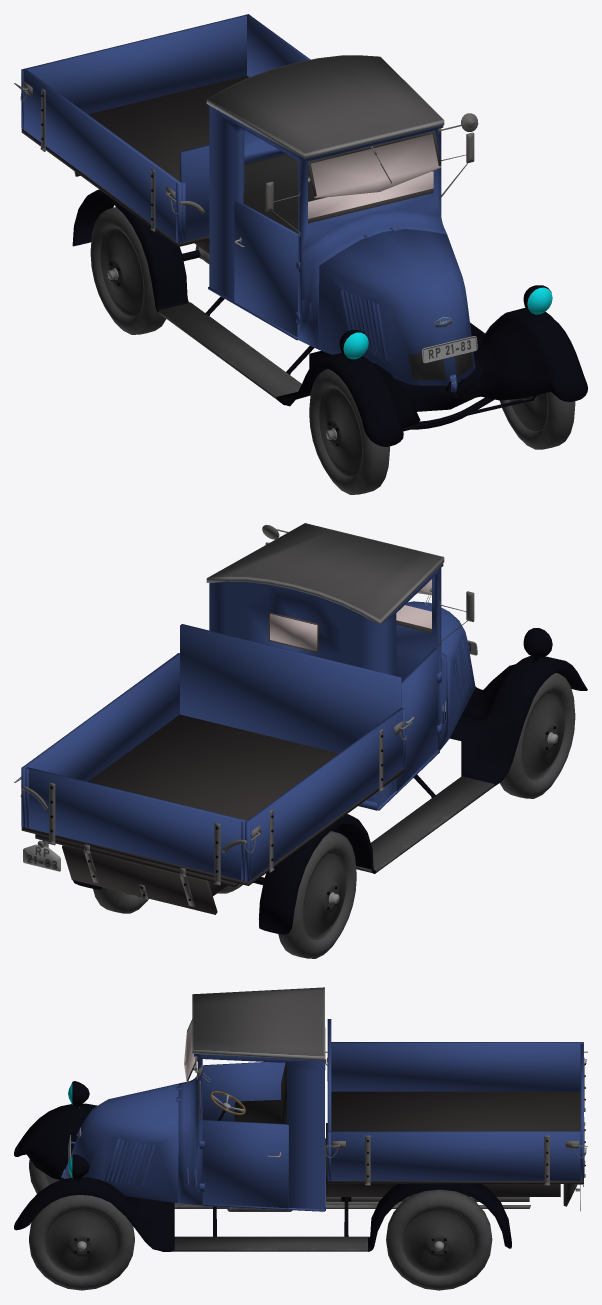
The model's file is phaenomen_4_rl_separated.fbx.
The picture shows the model from 3 angles, top to bottom: view 1: azimuth 30°, elevation 25°; view 2: azimuth 150°, elevation 25°; view 3: azimuth 270°, elevation 25°; orthographic projection. The views are drawn at different scales.
Parts seen in each view (by area): view 1: paenomen_textured, paenomen_engine_cover, paenomen_co_driver_door; view 2: paenomen_textured, paenomen_co_driver_door, paenomen_engine_cover; view 3: paenomen_textured, paenomen_engine_cover, paenomen_driver_door, paenomen_co_driver_door.
Part boxes in pixels (x1,y1,x2,y2): paenomen_textured: (14,14,587,494); paenomen_engine_cover: (318,227,477,392); paenomen_co_driver_door: (234,200,298,336); paenomen_textured: (14,523,587,958); paenomen_co_driver_door: (395,648,441,791); paenomen_engine_cover: (405,601,477,738); paenomen_textured: (14,987,587,1290); paenomen_engine_cover: (60,1083,179,1203); paenomen_driver_door: (200,1119,288,1208); paenomen_co_driver_door: (202,1062,285,1121).
Bounding box in the file's own units: 1.73 × 2.05 × 4.42.
